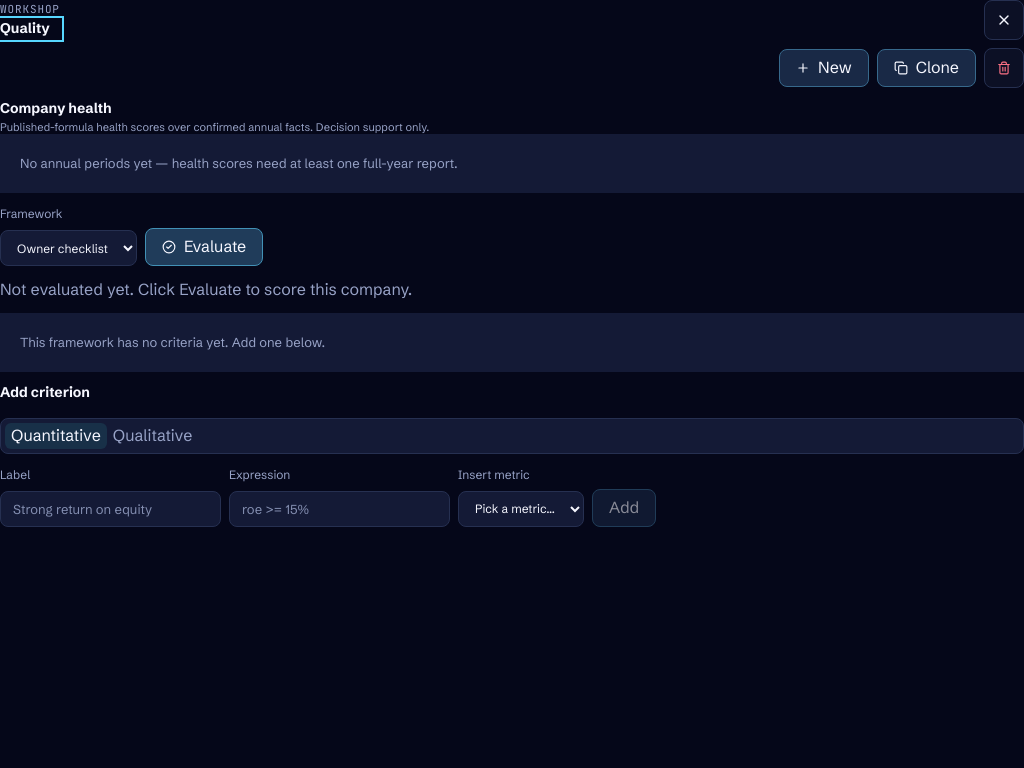
Scenario: Spółka workshop tool landmarks › no workshop tool contributes a landmark of its own
Click the button "Evaluate". click: (204, 247)
box: x1=145 y1=228 x2=263 y2=266
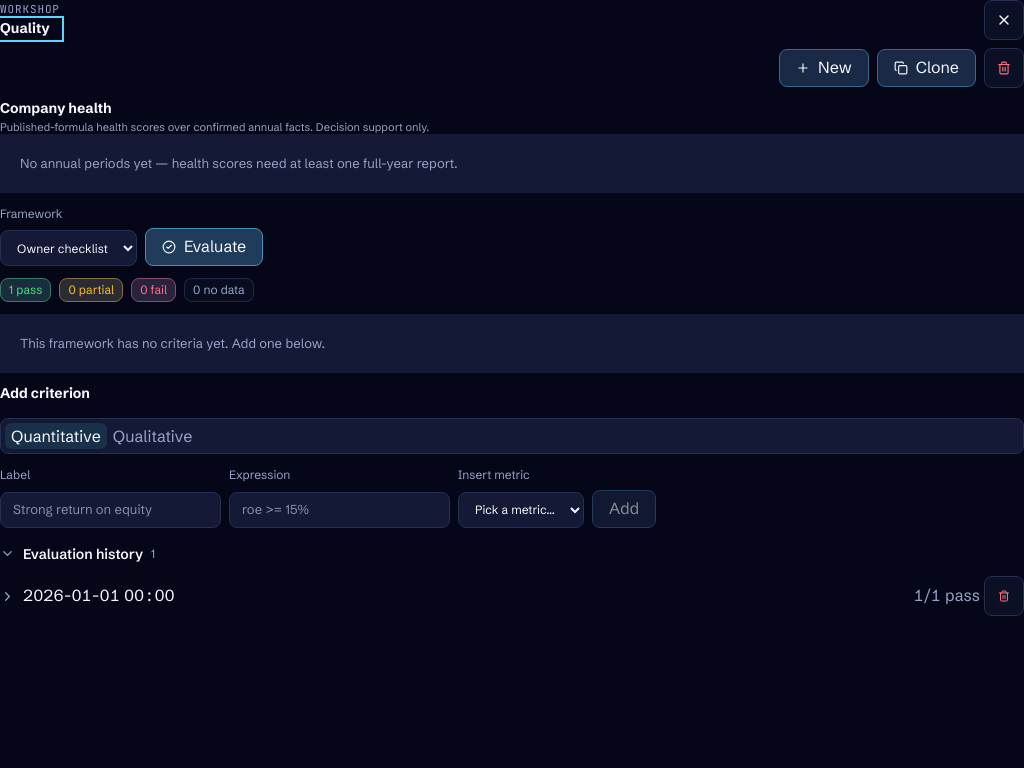
Now the text "Evaluation history" is shown, box x1=23 y1=544 x2=143 y2=564
